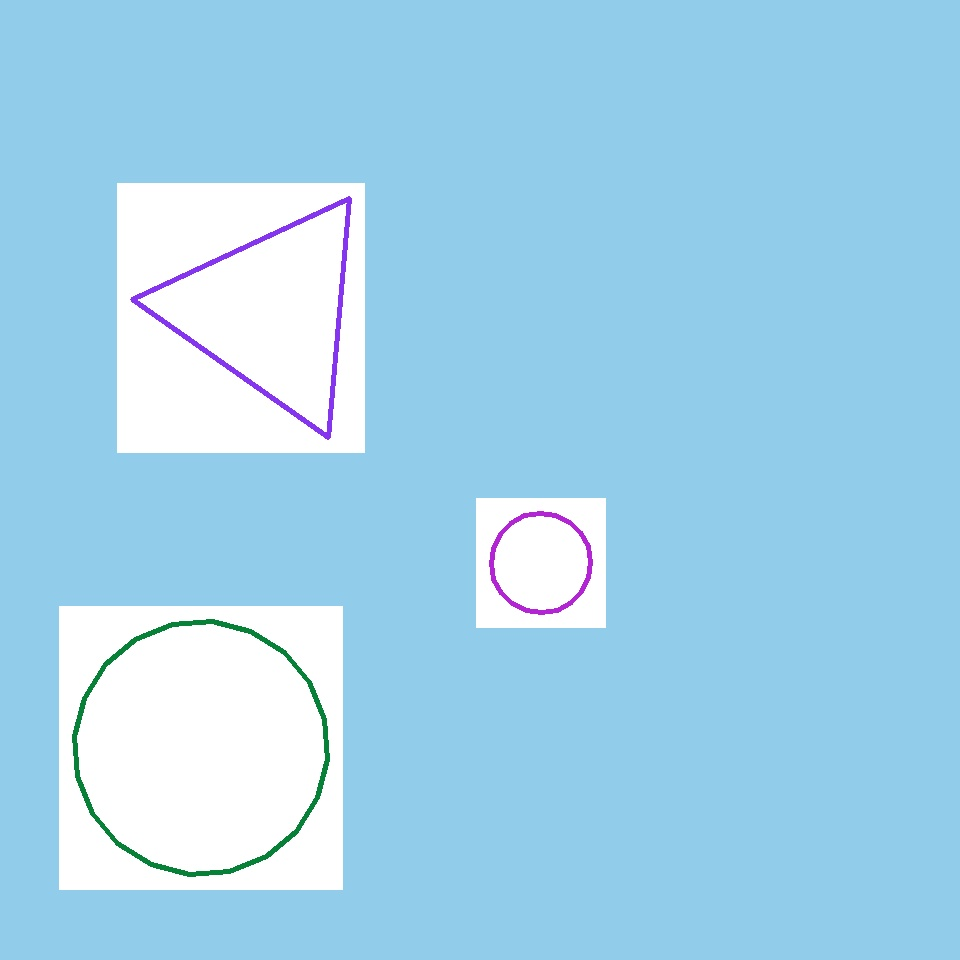circle: (353, 188, 647, 502), (162, 192, 378, 432), (206, 97, 346, 245)
triangle: (214, 430, 516, 732), (284, 400, 556, 674), (74, 622, 328, 874), (396, 458, 628, 690), (40, 552, 186, 696), (492, 514, 590, 612)
